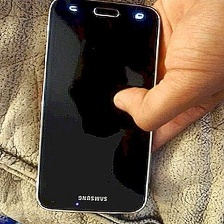phone: (29, 0, 163, 217)
